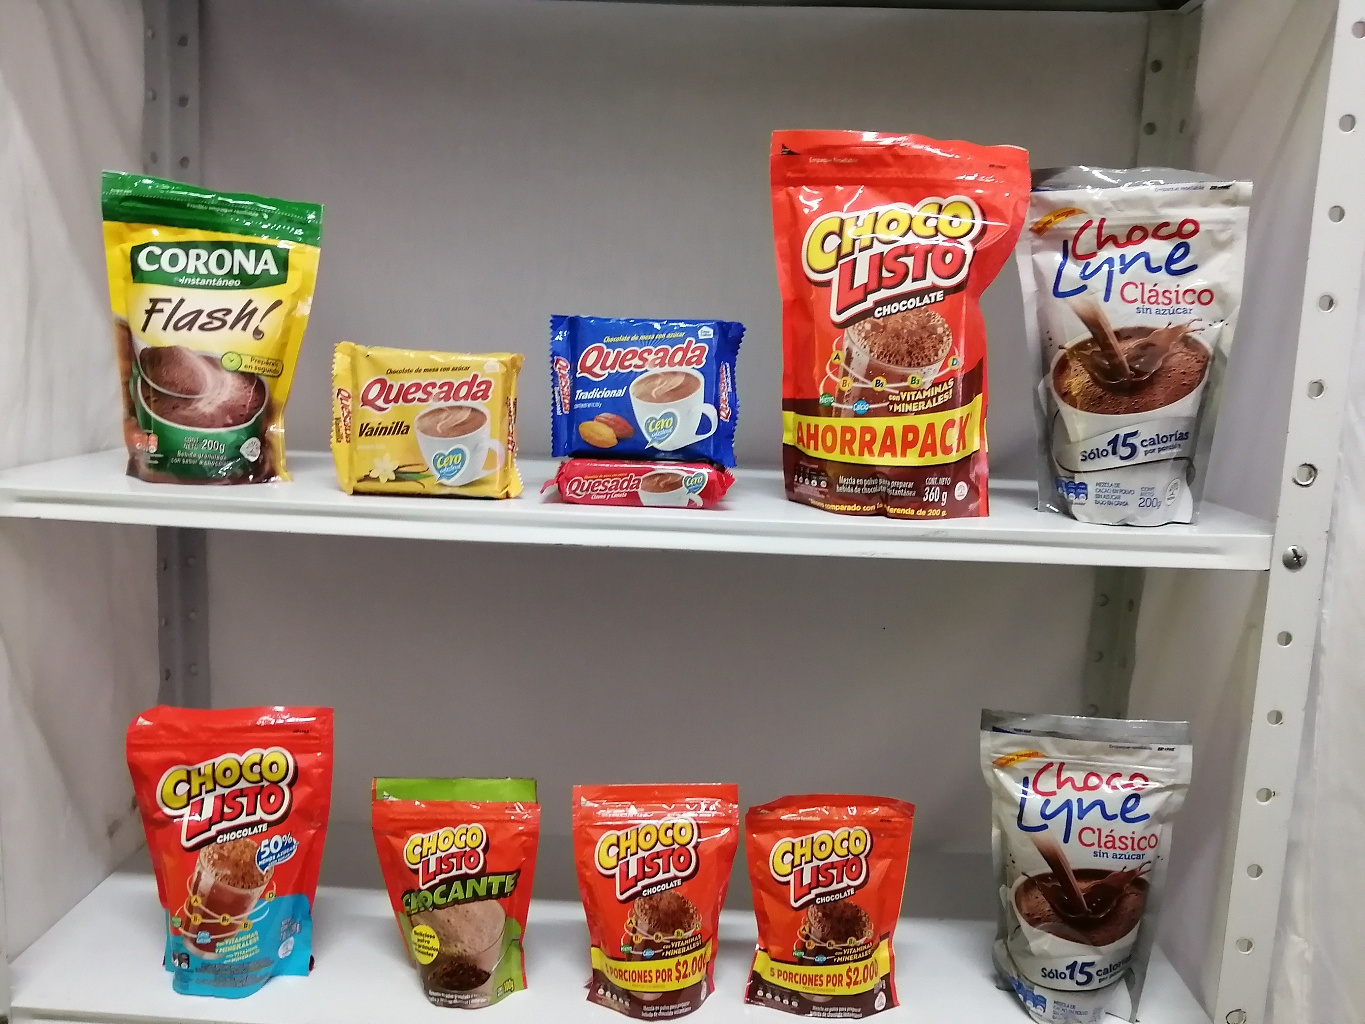COL0170102DYP10000: (357, 762, 548, 1012)
COL0170103DYP36000: (758, 112, 1048, 535)
COL0170104DYP20000: (104, 692, 346, 1007)
